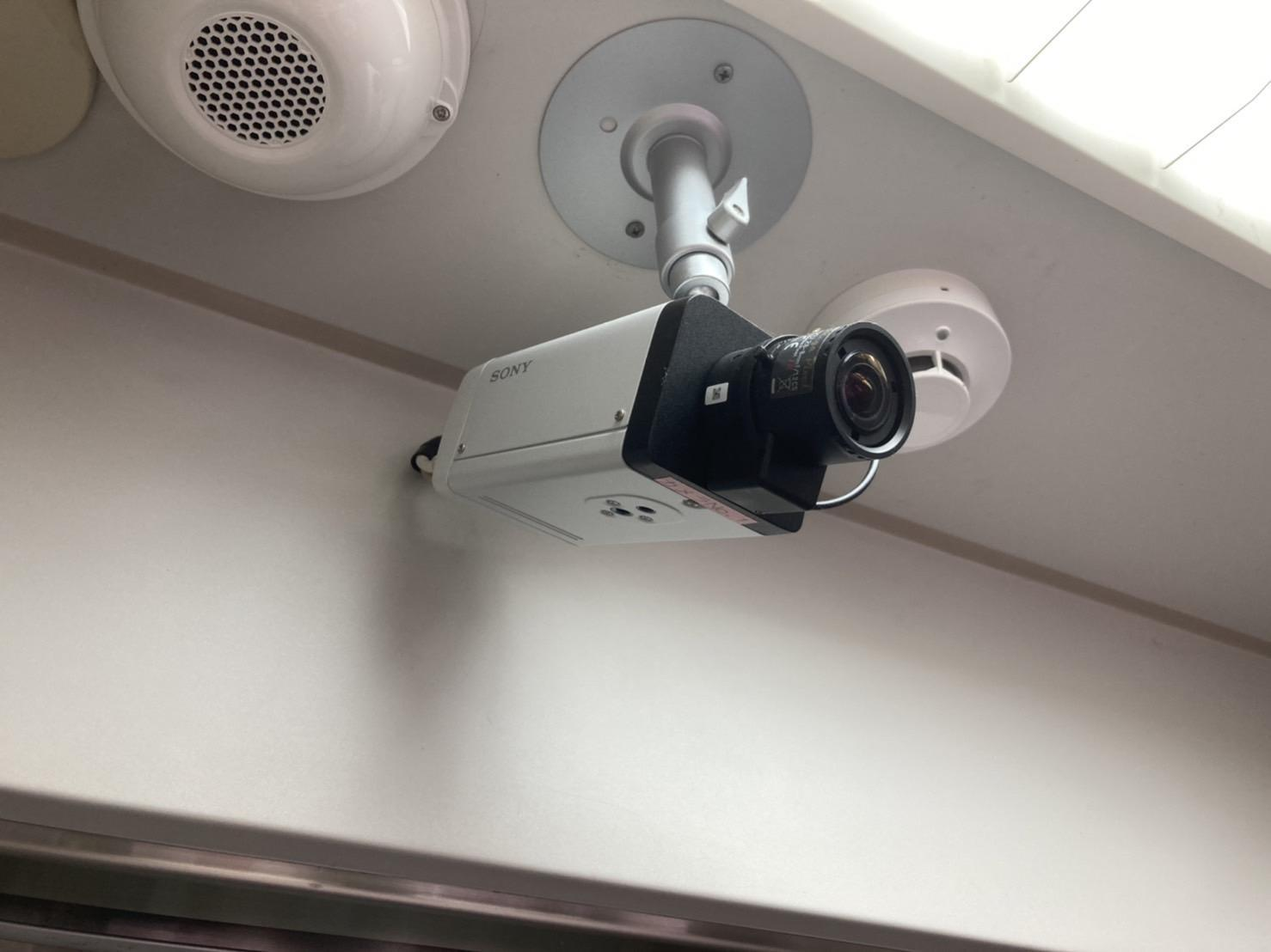tutu: (404, 285, 930, 562)
